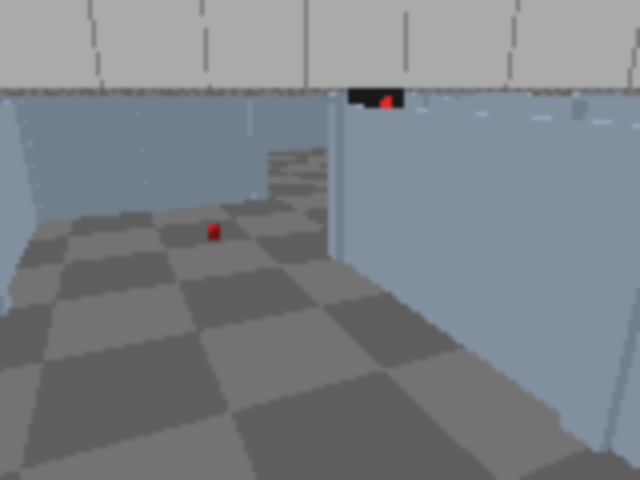puck: (203, 222, 225, 242)
